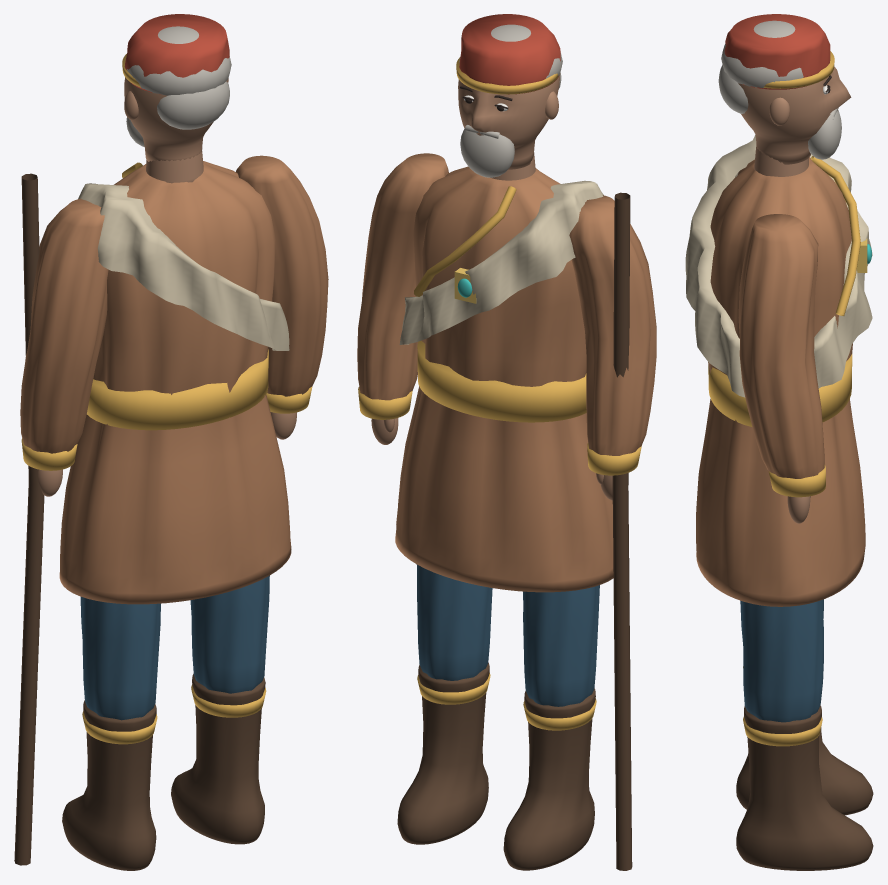
Rendered from VillageElder.fbx.
The picture shows the model from 3 angles, left to right: view 1: azimuth 30°, elevation 25°; view 2: azimuth 150°, elevation 25°; view 3: azimuth 270°, elevation 25°; orthographic projection. The views are drawn at different scales.
Visible parts, largest first — view 1: VillageElder; view 2: VillageElder; view 3: VillageElder.
Part boxes in pixels (x1,y1,x2,y2): VillageElder: (14,14,328,870); VillageElder: (357,14,656,870); VillageElder: (685,14,873,870).
Bounding box in the file's own units: 64.44 × 36.26 × 171.
